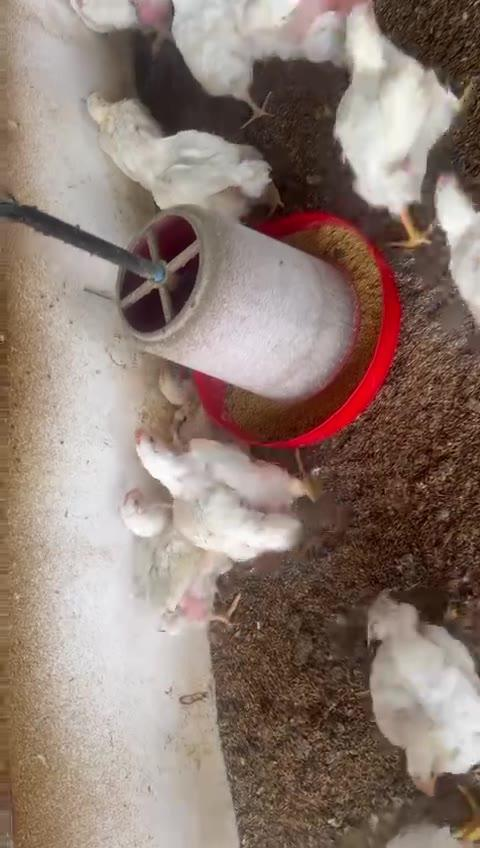AbNormal: (365, 597, 480, 800), (85, 89, 175, 201), (154, 360, 211, 456)
Normal: (335, 0, 468, 248), (134, 422, 313, 558), (125, 482, 223, 632), (114, 125, 277, 208), (170, 0, 257, 120), (235, 0, 377, 65), (430, 172, 480, 324), (67, 0, 167, 49)
